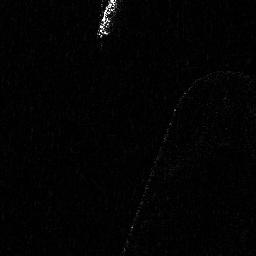ship: (96, 1, 119, 40)
